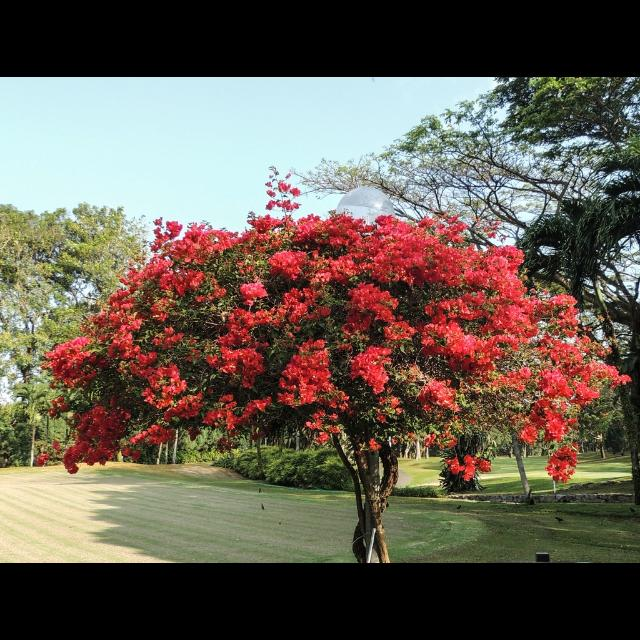Flower: (40, 164, 634, 490)
